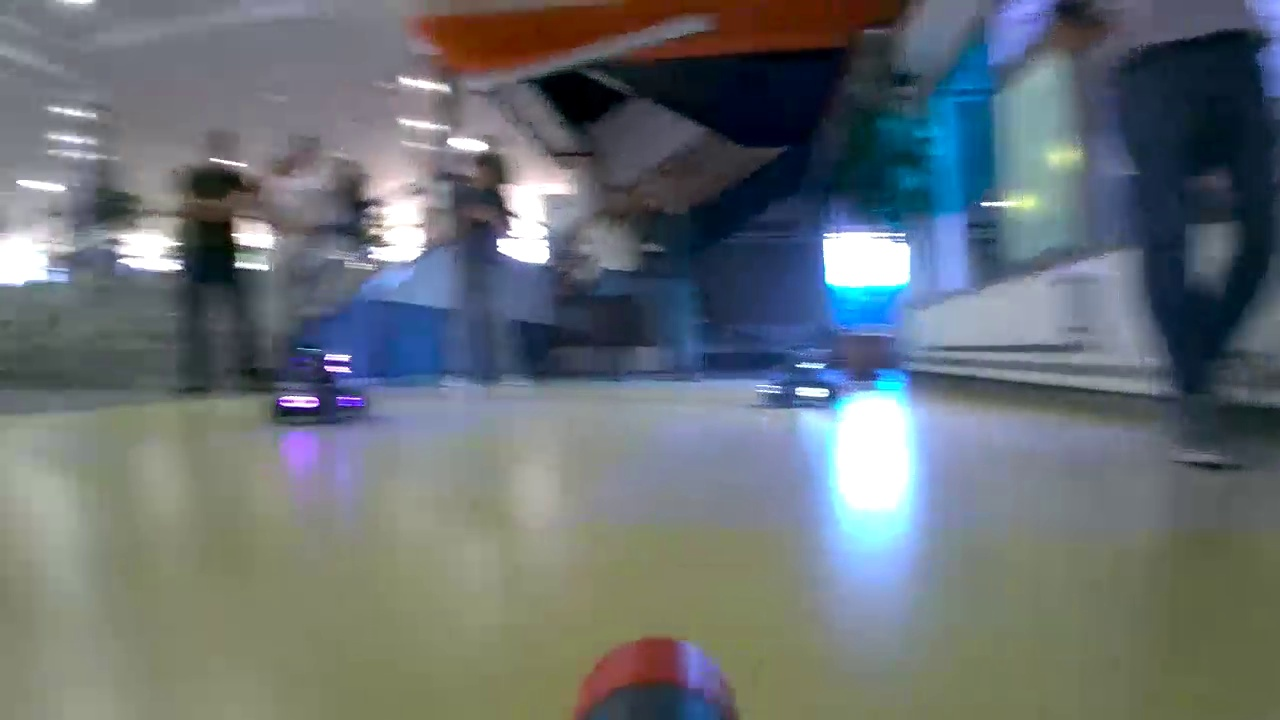robot: (280, 352, 366, 420), (754, 356, 842, 410)
